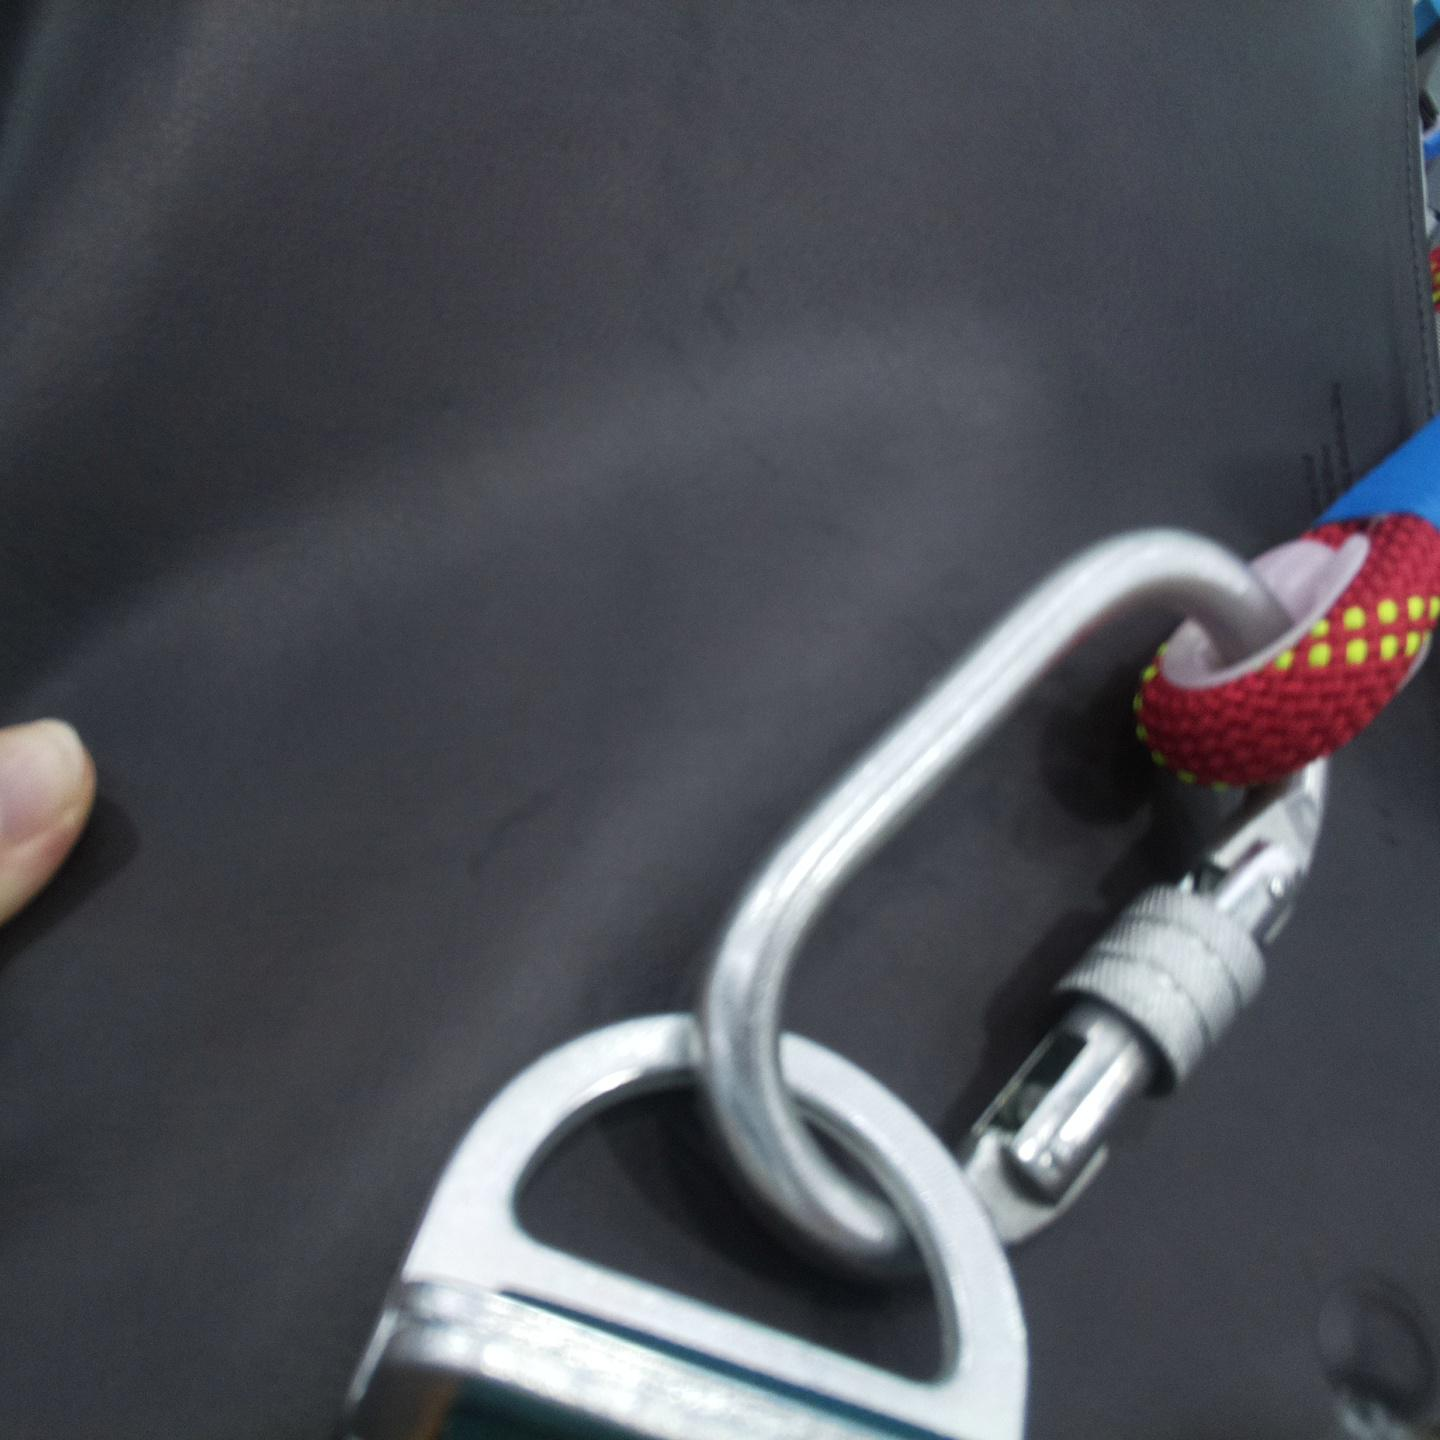SUCCESS: (415, 599, 1026, 1373)
